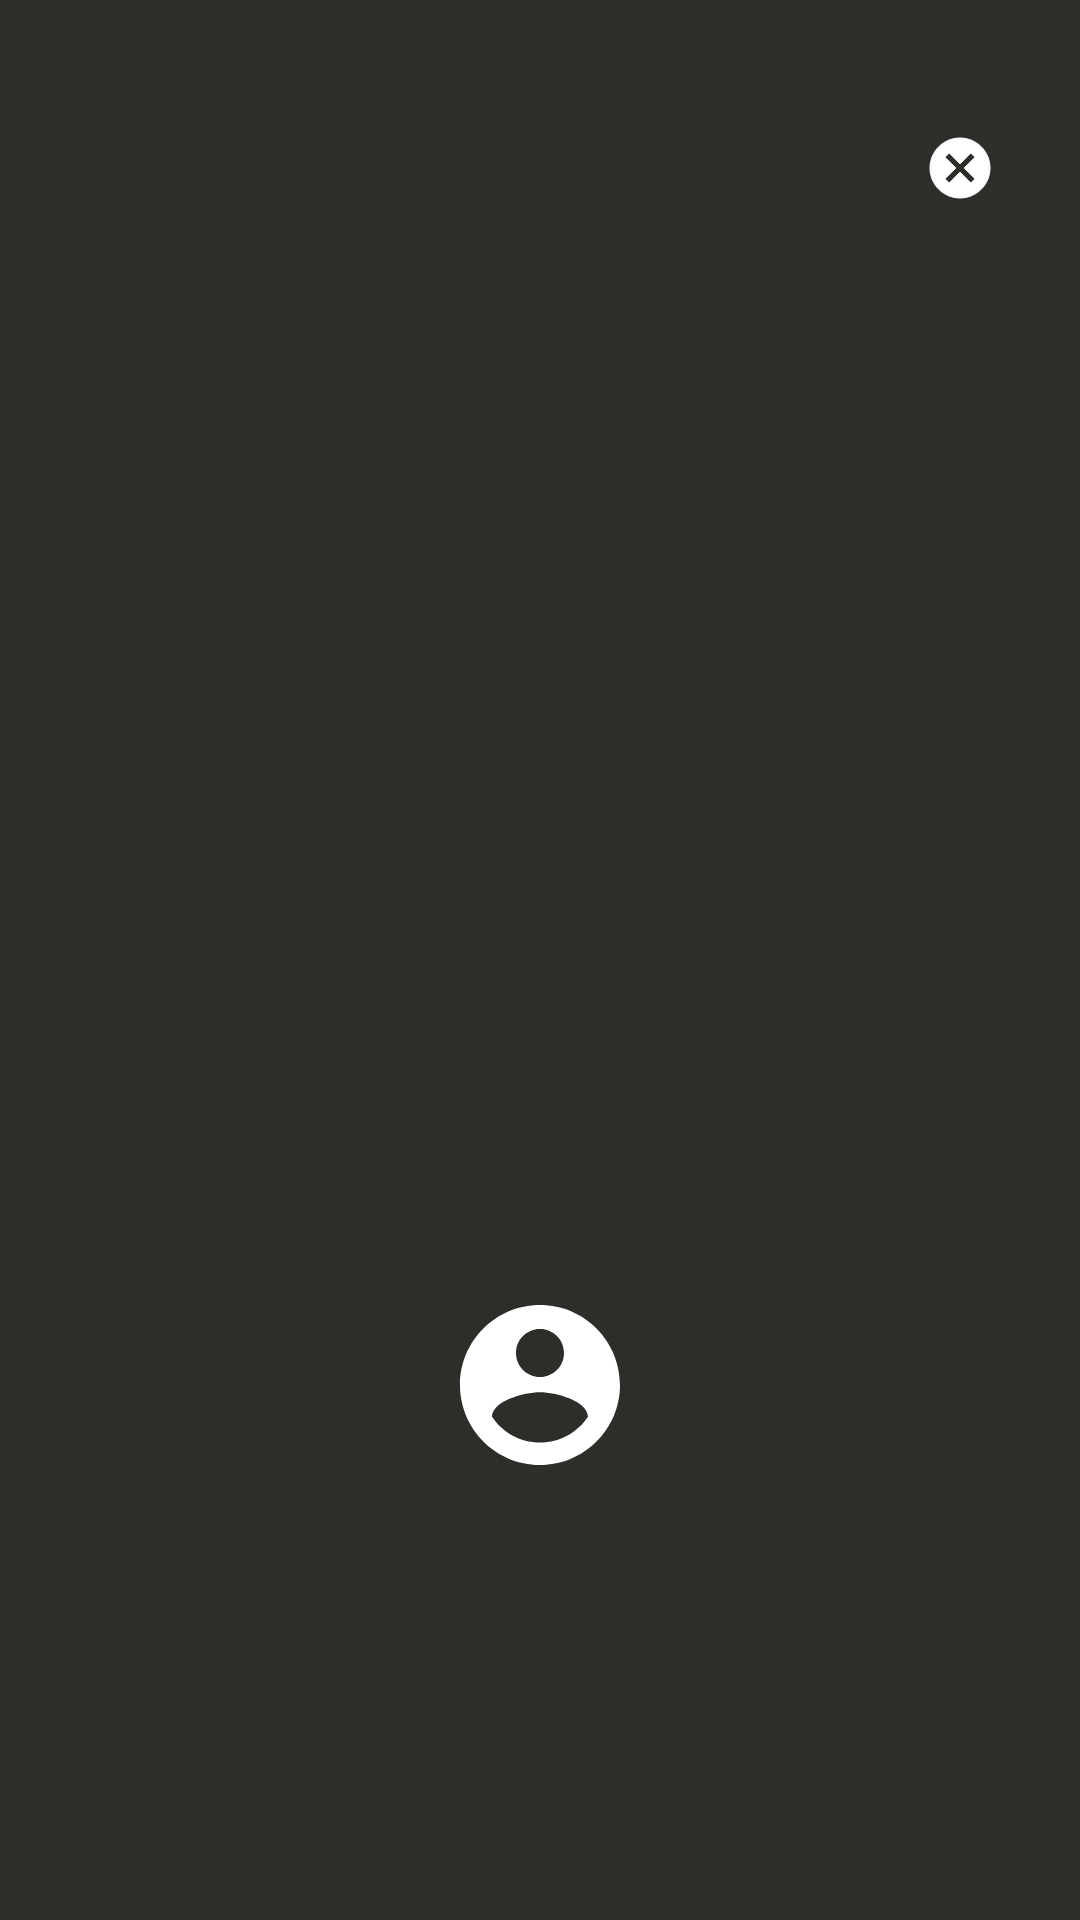

Icon click points for this 1080px x 1920px phone screenshot, format (x=x, y=y):
account circle: (x=540, y=1385)
cancel: (x=960, y=168)
